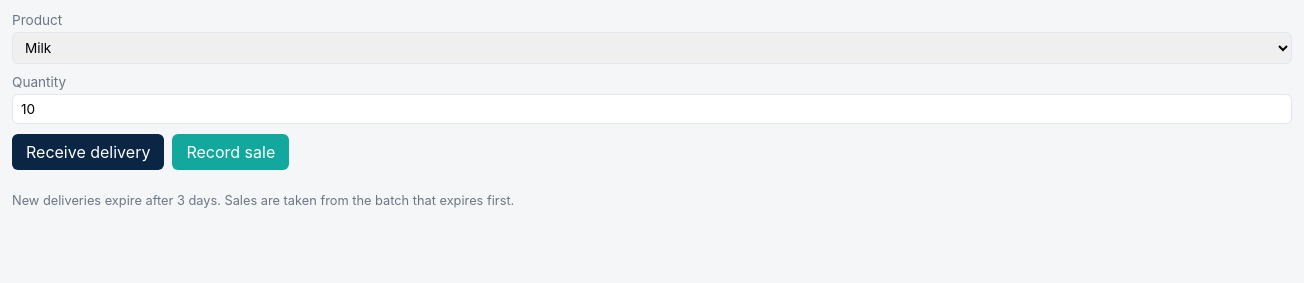
QuickActions › receives a delivery with an expiry date from the shelf life
Select "Bread" in the dropdown at (652, 48), box [12, 32, 1292, 64]
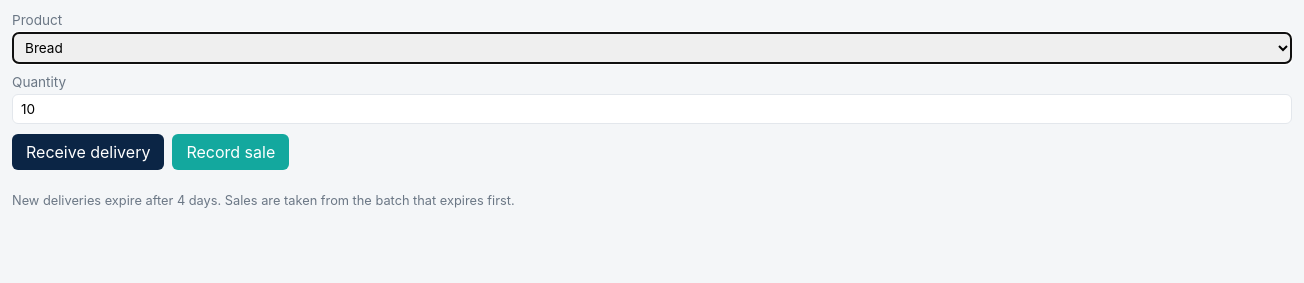
Replace the text in the number field with "5" at (652, 109), box [12, 94, 1292, 124]
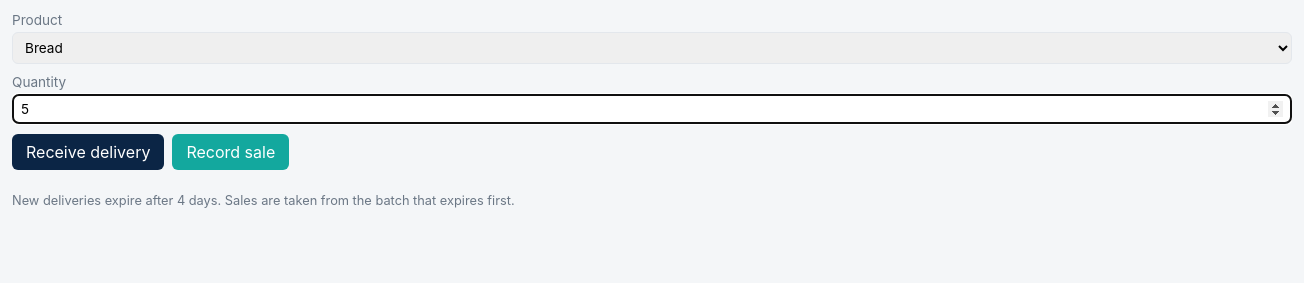
Click the button "Receive delivery".
click(88, 152)  # box [12, 134, 164, 170]
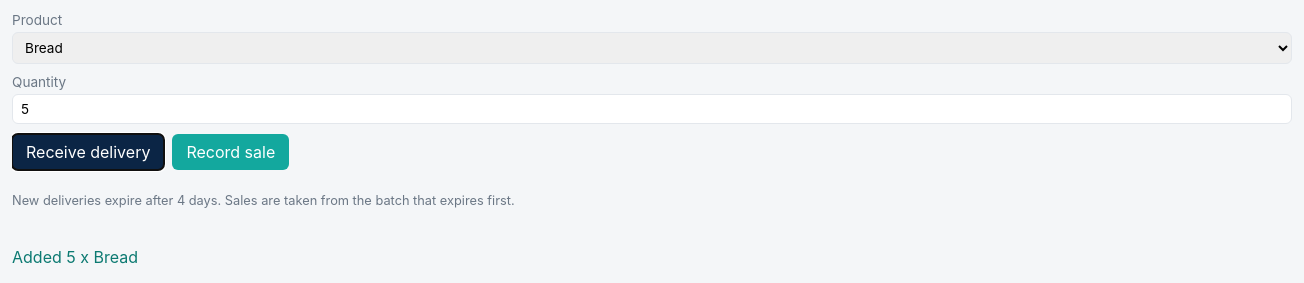
Expected: the text "Added 5 x Bread" is shown, [12, 247, 138, 267]
